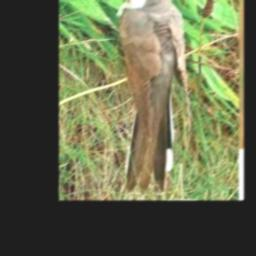Cuckoo: (110, 0, 187, 189)
